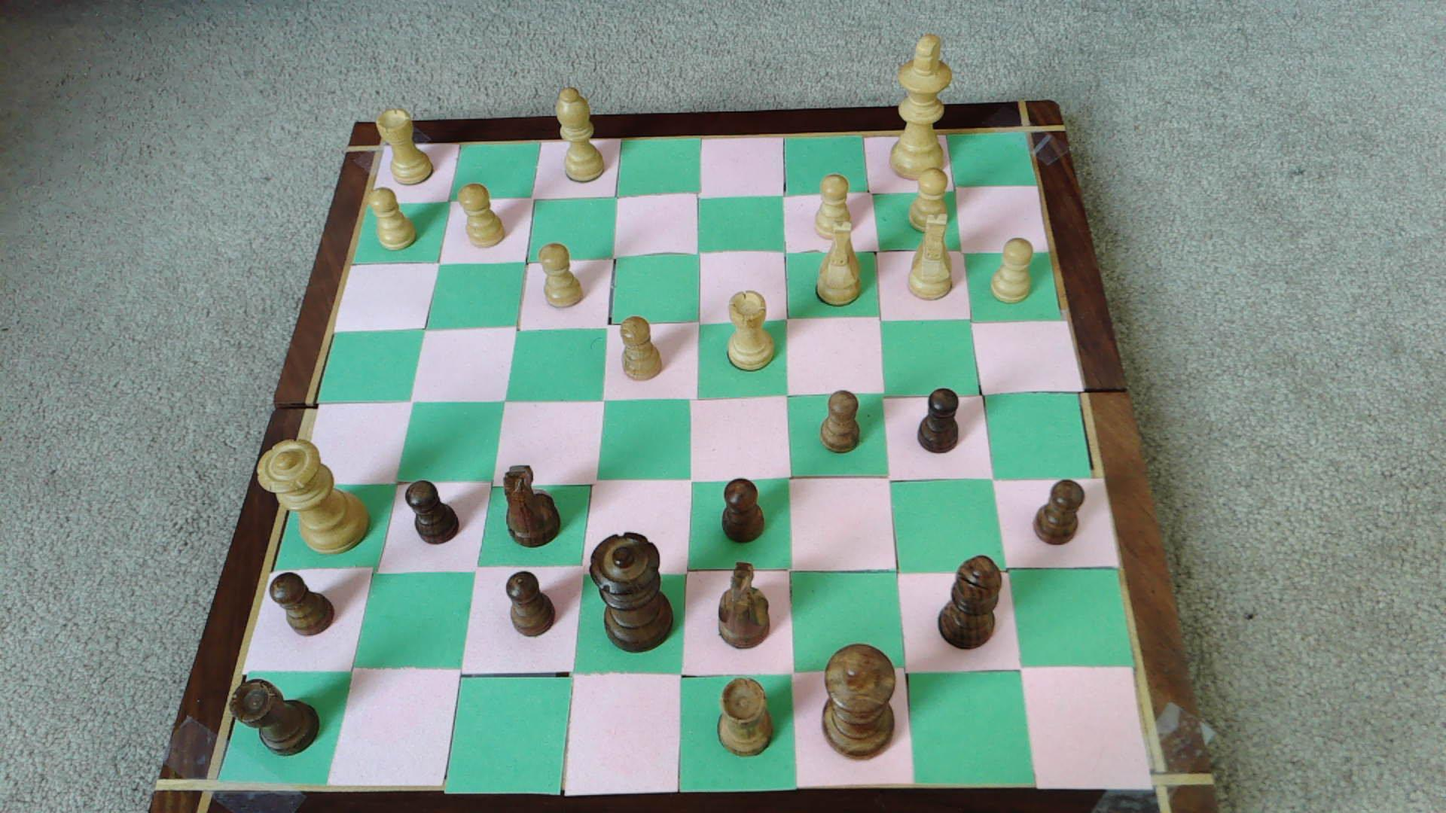dark_piece: (590, 533, 672, 651), (821, 646, 893, 759), (230, 679, 319, 754), (938, 556, 1002, 648), (503, 464, 560, 547), (718, 562, 769, 648), (718, 676, 773, 755), (270, 572, 334, 635), (406, 481, 459, 543), (1033, 480, 1084, 544), (506, 571, 554, 636), (722, 478, 765, 542), (917, 387, 959, 452), (820, 389, 860, 451)
white_piece: (257, 440, 368, 551), (889, 32, 953, 179), (555, 87, 605, 182), (377, 108, 435, 185), (908, 214, 954, 299), (728, 290, 775, 370), (816, 230, 861, 305), (458, 183, 507, 247), (369, 187, 416, 251), (539, 242, 584, 307), (991, 237, 1034, 303), (621, 316, 663, 380), (814, 174, 853, 240), (908, 169, 948, 233)
